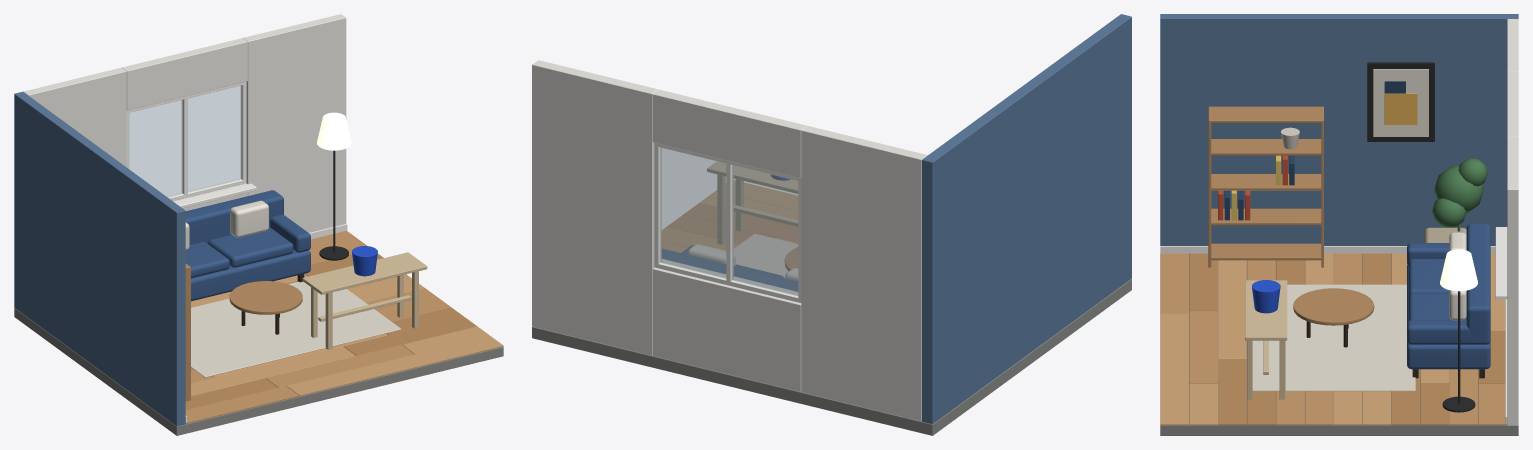
Rendered from room.glb.
The picture shows the model from 3 angles, left to right: view 1: azimuth 30°, elevation 25°; view 2: azimuth 150°, elevation 25°; view 3: azimuth 270°, elevation 25°; orthographic projection. The views are drawn at different scales.
Visible parts, largest first — view 1: WallSide, WallBack, Window, Sofa, Rug, Slab, Trestle, Plank_01, Table, Plank_05, Plank_03, Lamp (+13 smaller); view 2: WallBack, WallSide, Window, Slab, Trestle, Sofa, Rug, Plank_06, Plank_09, Plank_01, Plank_11, Plank_04; view 3: WallSide, Rug, Shelf, Sofa, Art, WallBack, Slab, Plank_01, Trestle, Plank_05, Plant, Table (+28 smaller).
Part boxes in pixels (box(x1,y1,x2,y2)): WallSide: box(14, 91, 185, 426); WallBack: box(23, 14, 346, 232); Window: box(126, 81, 256, 208); Sofa: box(185, 190, 310, 301); Rug: box(191, 281, 401, 377); Slab: box(14, 308, 503, 435); Trestle: box(302, 252, 427, 349); Plank_01: box(287, 336, 503, 396); Table: box(229, 281, 302, 334); Plank_05: box(191, 346, 355, 396); Plank_03: box(266, 345, 414, 387); Lamp: box(317, 112, 351, 260); WallBack: box(532, 60, 927, 421); WallSide: box(922, 14, 1131, 424); Window: box(654, 143, 801, 302); Slab: box(532, 279, 1131, 435); Trestle: box(707, 161, 797, 244); Sofa: box(662, 244, 797, 291); Rug: box(734, 234, 797, 277); Plank_06: box(683, 203, 797, 242); Plank_09: box(667, 215, 774, 243); Plank_01: box(716, 180, 797, 210); Plank_11: box(662, 226, 739, 250); Plank_04: box(700, 191, 797, 219); WallSide: box(1160, 14, 1518, 245); Rug: box(1252, 284, 1415, 391); Shelf: box(1208, 106, 1323, 267); Sofa: box(1407, 223, 1490, 369); Art: box(1367, 62, 1434, 141); WallBack: box(1507, 19, 1518, 425); Slab: box(1160, 254, 1518, 435); Plank_01: box(1160, 314, 1188, 425); Trestle: box(1245, 280, 1287, 399); Plank_05: box(1218, 260, 1246, 358); Plant: box(1432, 158, 1487, 231); Table: box(1293, 288, 1374, 347).
Bounding box in the file's own units: 4.32 × 2.82 × 3.72.
